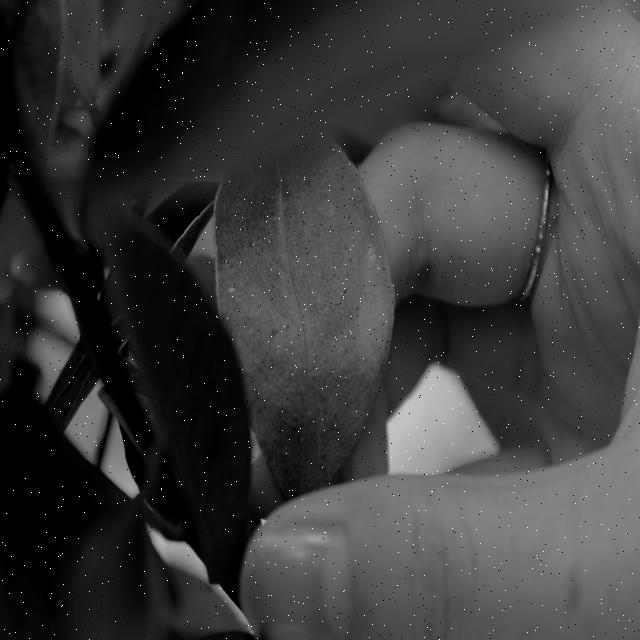blackspot: (229, 158, 361, 446)
